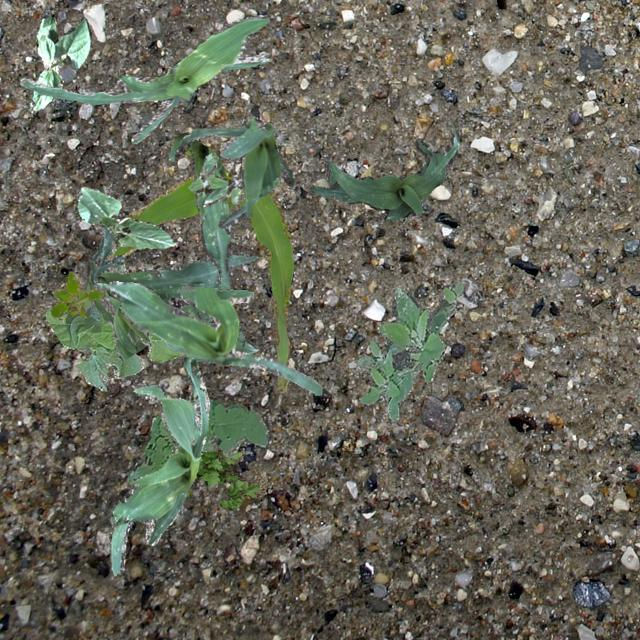crop: (108, 148, 292, 392), (20, 13, 272, 142), (81, 184, 256, 360), (102, 280, 320, 394), (108, 356, 208, 574), (44, 248, 184, 390), (311, 124, 458, 220), (182, 114, 292, 228), (167, 132, 230, 288), (76, 185, 176, 248), (28, 16, 90, 112), (197, 310, 244, 350), (240, 338, 258, 352)
weed: (356, 280, 466, 420), (126, 398, 266, 484), (194, 446, 266, 506), (188, 152, 242, 206), (51, 270, 102, 316)
